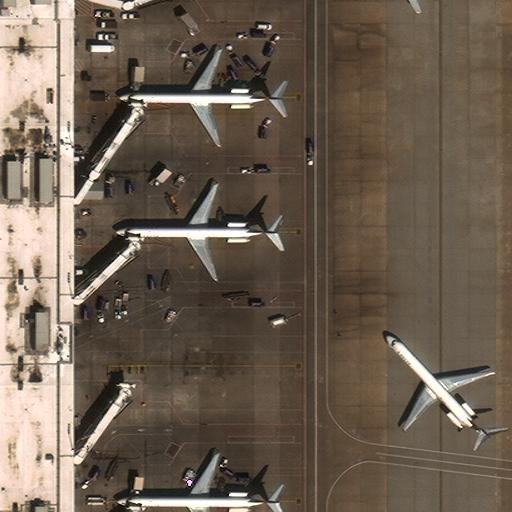Medium Civil Transport: (115, 184, 279, 280), (119, 51, 282, 145), (386, 334, 491, 439), (116, 455, 281, 512)
